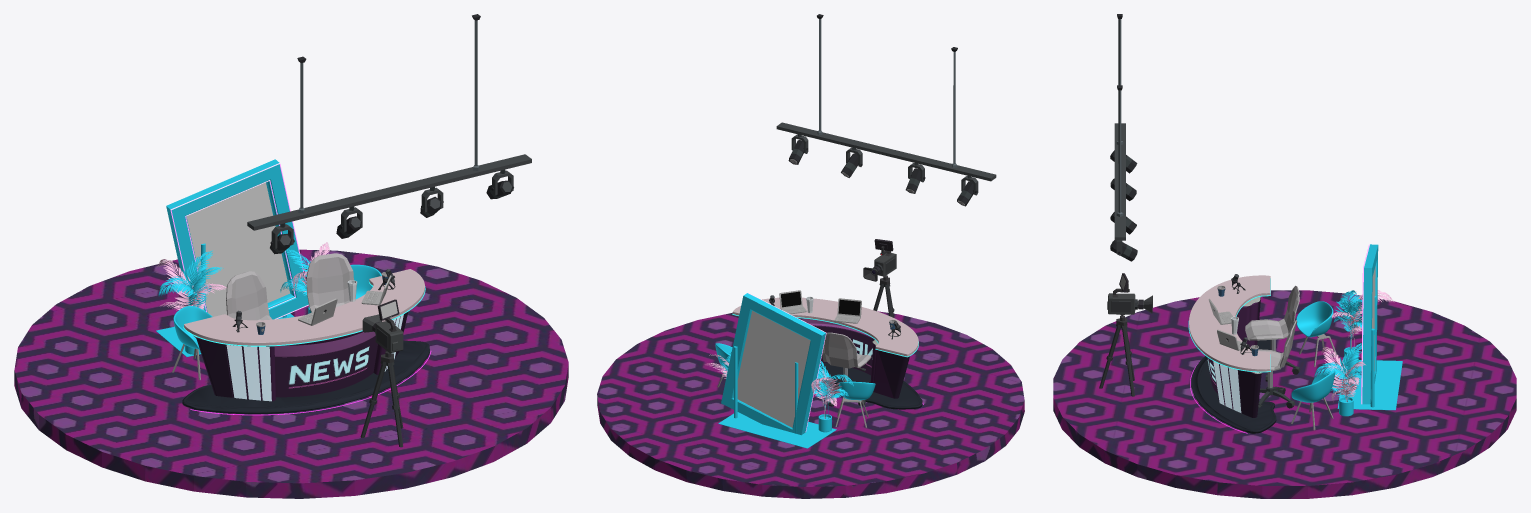
The model's file is LTTV_Set.glb.
The picture shows the model from 3 angles, left to right: view 1: azimuth 30°, elevation 25°; view 2: azimuth 150°, elevation 25°; view 3: azimuth 270°, elevation 25°; orthographic projection. The views are drawn at different scales.
Visible parts, largest first — view 1: Floor.002, NewsDesk, Content_Screen, Countertop - even width, SM_Prop_Light_Spotlight_02, Frame_Color_1_0, DeskChair.001, DeskChair, Camera, Tripod, Chair1_Color_1_0, Palm_Leaf19_Color_2_0; view 2: Floor.002, Content_Screen, Frame_Color_1_0, NewsDesk, SM_Prop_Light_Spotlight_02, Countertop - even width, Floor, DeskChair, Camera, Laptop.001, Chair1_Color_1_0, Laptop; view 3: Floor.002, NewsDesk, Countertop - even width, SM_Prop_Light_Spotlight_02, Frame_Color_1_0, Floor, DeskChair, Chair1_Color_1_0, DeskChair.001, Camera, Tripod, Chair_Color_1_0.
Part boxes in pixels (x1,y1,x2,y2): Floor.002: [14, 249, 568, 498]; NewsDesk: [182, 312, 429, 414]; Content_Screen: [186, 182, 290, 316]; Countertop - even width: [184, 269, 424, 346]; SM_Prop_Light_Spotlight_02: [247, 14, 531, 249]; Frame_Color_1_0: [166, 159, 308, 319]; DeskChair.001: [306, 253, 353, 312]; DeskChair: [226, 271, 272, 320]; Camera: [362, 299, 403, 353]; Tripod: [360, 332, 403, 447]; Chair1_Color_1_0: [173, 306, 212, 349]; Palm_Leaf19_Color_2_0: [181, 250, 212, 305]; Floor.002: [597, 311, 1024, 498]; Content_Screen: [737, 310, 810, 427]; Frame_Color_1_0: [721, 293, 825, 435]; NewsDesk: [798, 318, 922, 409]; SM_Prop_Light_Spotlight_02: [776, 14, 996, 195]; Countertop - even width: [732, 297, 918, 356]; Floor: [718, 412, 836, 448]; DeskChair: [822, 332, 871, 406]; Camera: [863, 239, 896, 281]; Laptop.001: [834, 298, 861, 323]; Chair1_Color_1_0: [838, 381, 875, 400]; Laptop: [779, 290, 806, 314]; Floor.002: [1053, 290, 1516, 498]; NewsDesk: [1191, 296, 1276, 433]; Countertop - even width: [1189, 275, 1270, 372]; SM_Prop_Light_Spotlight_02: [1114, 14, 1125, 255]; Frame_Color_1_0: [1362, 244, 1378, 404]; Floor: [1337, 360, 1402, 410]; DeskChair: [1245, 285, 1300, 381]; Chair1_Color_1_0: [1296, 301, 1333, 337]; DeskChair.001: [1258, 320, 1297, 408]; Camera: [1107, 273, 1152, 315]; Tripod: [1099, 315, 1134, 396]; Chair_Color_1_0: [1291, 370, 1335, 402].
Bounding box in the file's own units: 5.08 × 4.23 × 5.08.
27 materials, 9 textured.
